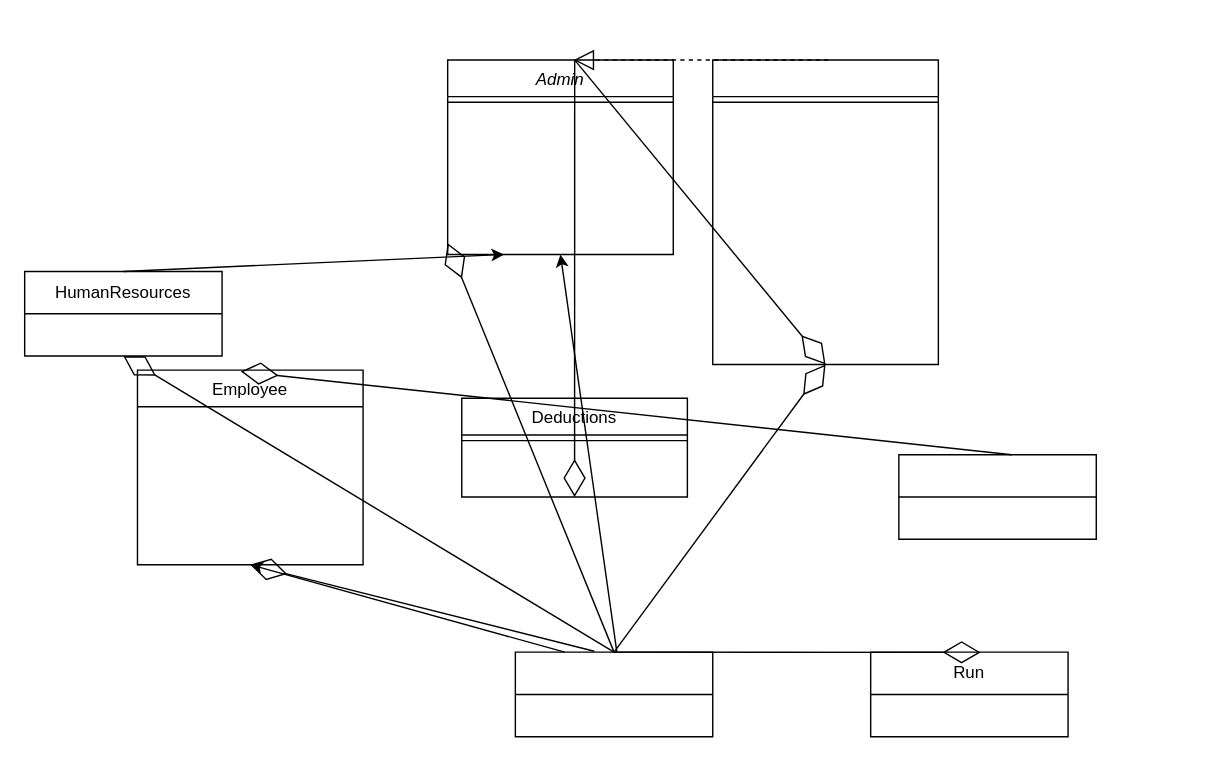
Some shapes in this 1220 by 761 pixel diagram are drawn without their labels. The shapes that lost their labels are listed below. From the top down, each one's centre as x and y in pixels, then its label:
pixel 824 211: Payslip
pixel 996 496: PayClaim
pixel 613 694: CLI
